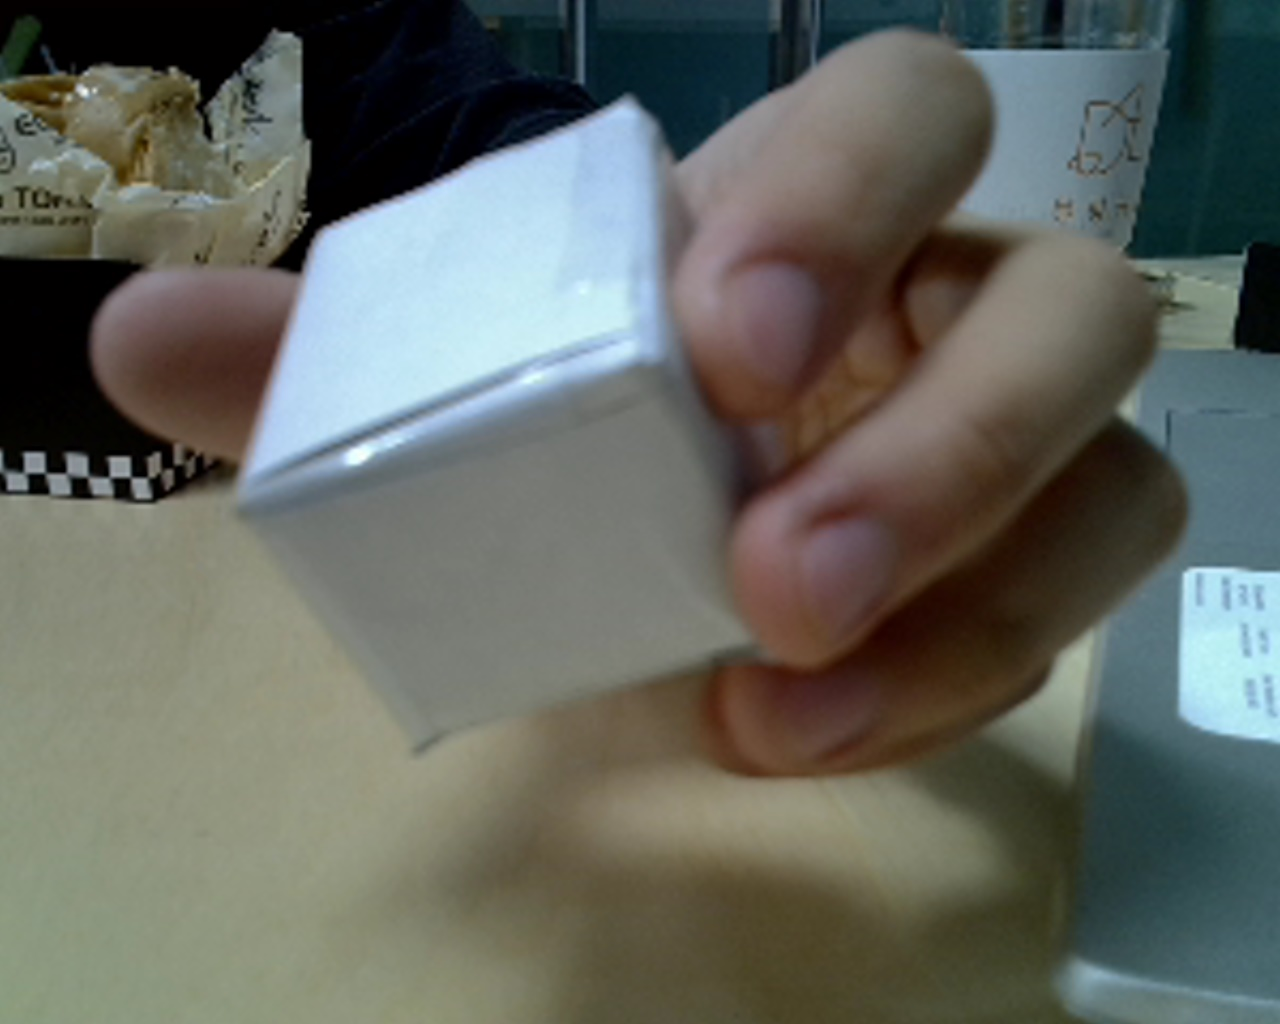whitebox: (250, 90, 818, 796)
